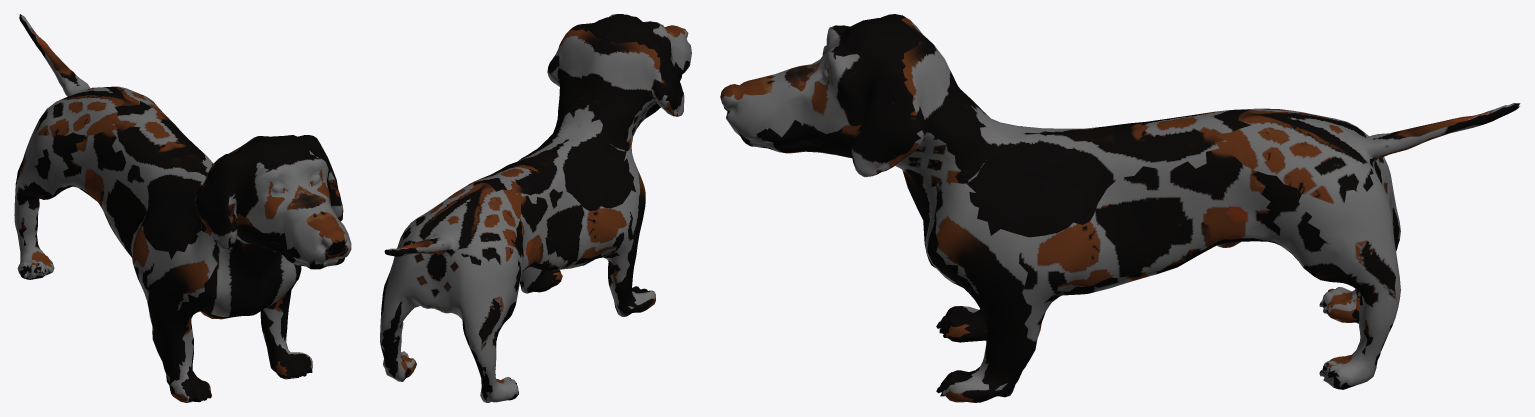
Rendered from dog_vn_added2_reduced.obj.
3 renders of one model, left to right at view 1: azimuth 30°, elevation 25°; view 2: azimuth 150°, elevation 25°; view 3: azimuth 270°, elevation 25°, orthographic. The views are drawn at different scales.
Bounding box in the file's own units: 1.57 × 2.82 × 6.01.
Materials: 1 (1 with a texture image).
